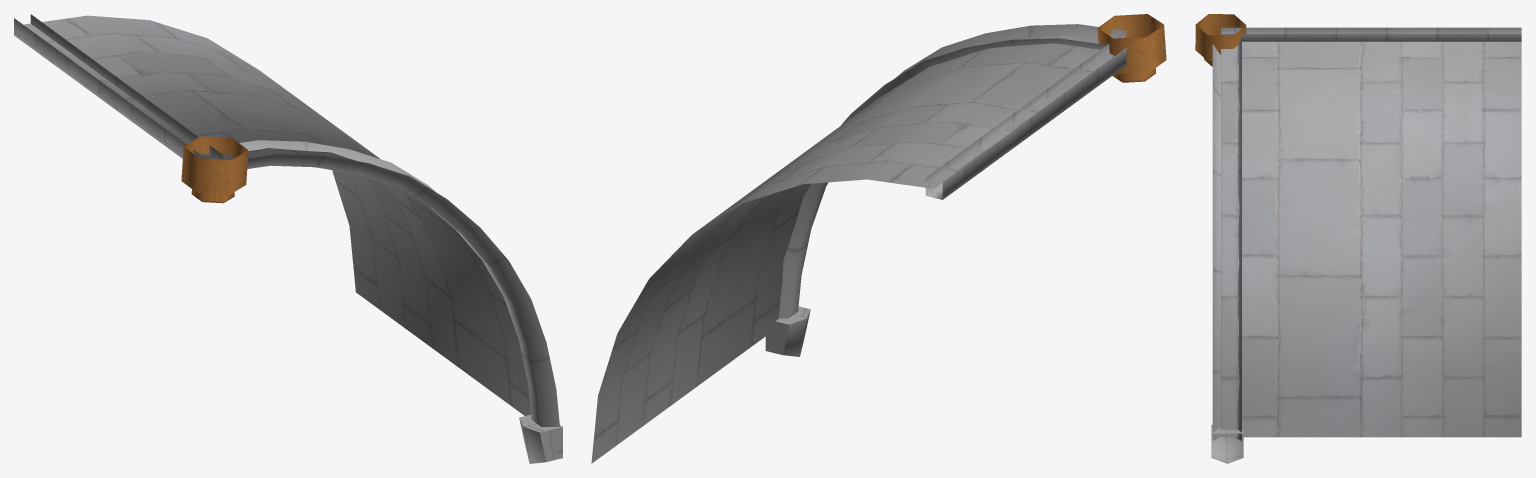
File: SM_CeilingBorder4m.fbx
3 views of the same model, side by side, from view 1: azimuth 30°, elevation 25°; view 2: azimuth 150°, elevation 25°; view 3: azimuth 270°, elevation 25° (orthographic). The views are drawn at different scales.
Visible parts, largest first — view 1: SM_CeilingBorder4m; view 2: SM_CeilingBorder4m; view 3: SM_CeilingBorder4m.
Part boxes in pixels (left/top/right/bottom): SM_CeilingBorder4m: left=14, top=14, right=562, bottom=463; SM_CeilingBorder4m: left=591, top=14, right=1166, bottom=463; SM_CeilingBorder4m: left=1195, top=14, right=1521, bottom=463.
Bounding box in the file's own units: 4.41 × 4.56 × 4.34.
